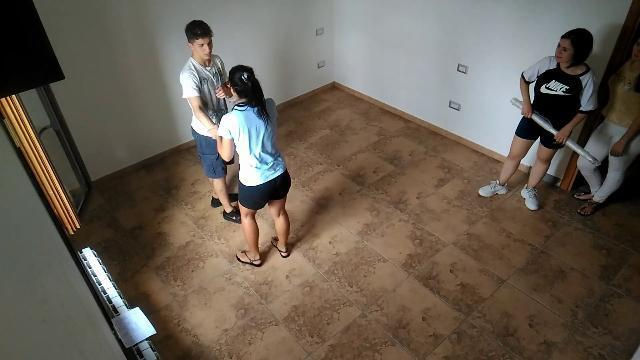non-violence: (578, 37, 640, 219)
violence: (181, 19, 293, 267), (472, 27, 602, 211)
